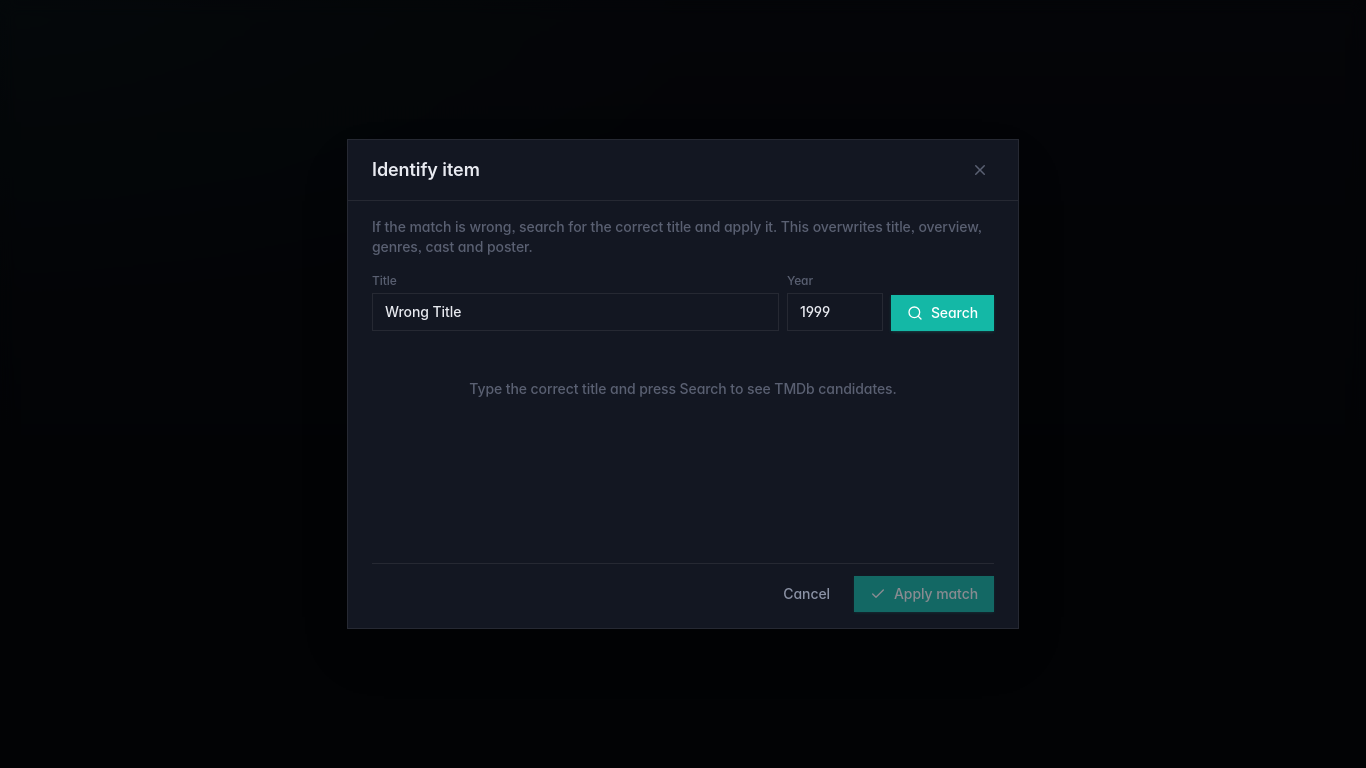
IdentifyDialog › disables Apply when no candidate has been selected
Click the button "Search" at coordinates (942, 313), box [891, 295, 994, 331]
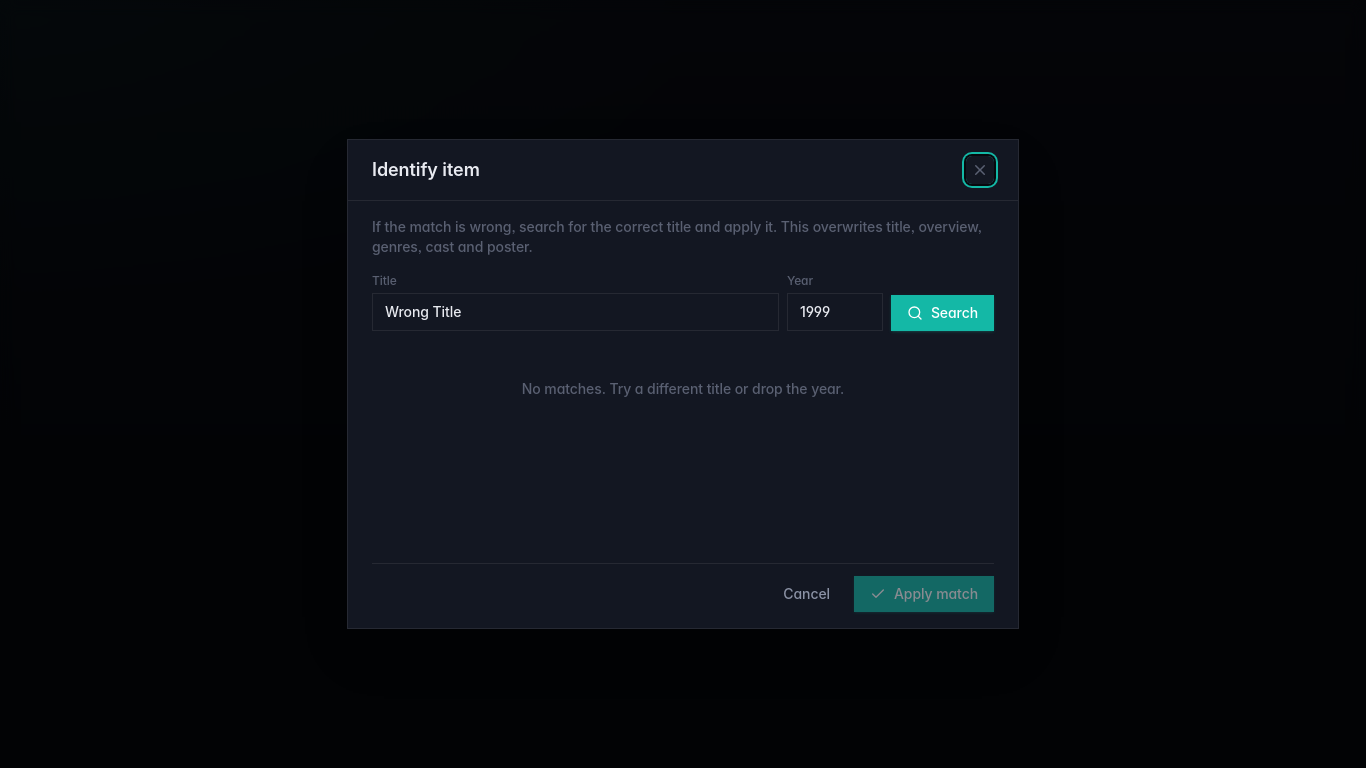
expect the button "Apply match" is disabled: met, box [854, 576, 994, 612]
expect the text "No matches. Try a different title or drop the year." is shown: met, box [522, 380, 844, 397]
